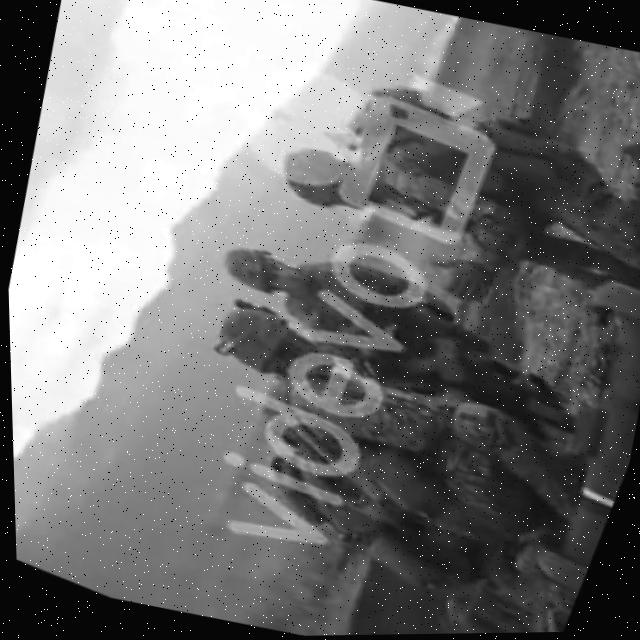rocket: (485, 270, 640, 590)
